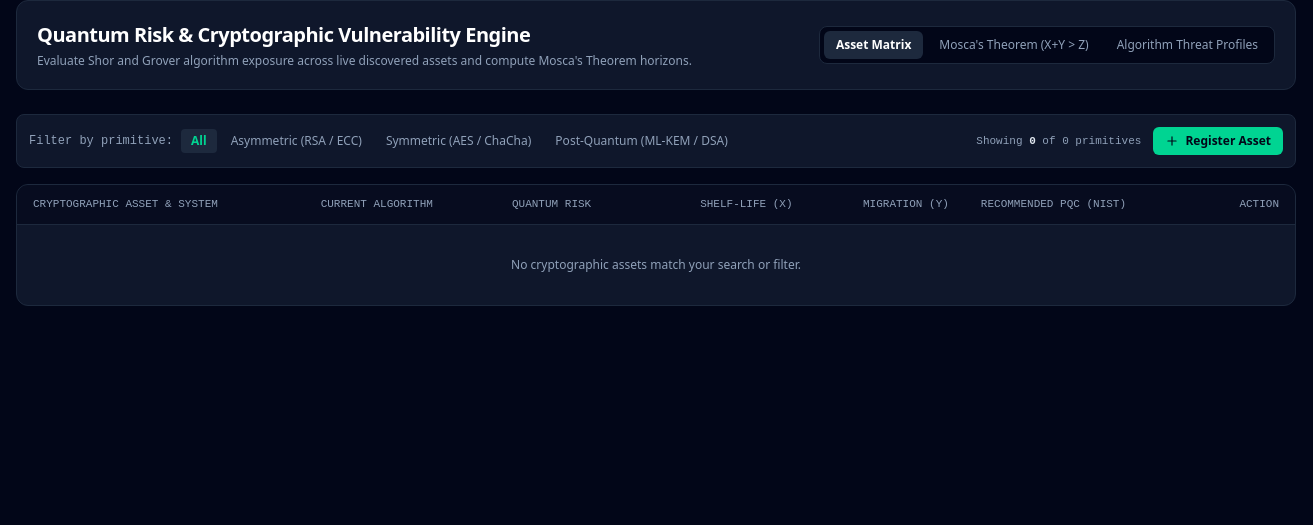
QuantumShield React UI Components › renders Mosca's Theorem Calculator and updates evaluation dynamically
Click the button "Mosca's Theorem (X+Y > Z)" at (1014, 45), box [927,31,1101,59]
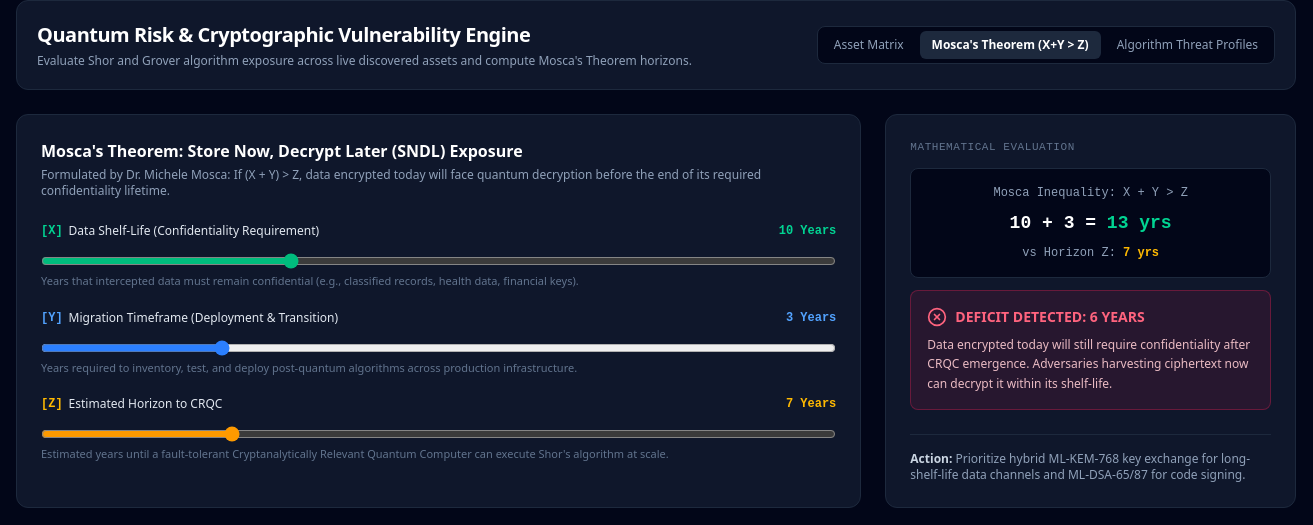
expect the text "DEFICIT DETECTED: 6 YEARS" is shown: met, box [955,306,1145,326]
Set the slider labelled "[Z] Estimated Horizon to CRQC" to "18" at (737, 434), box [41,430,836,438]
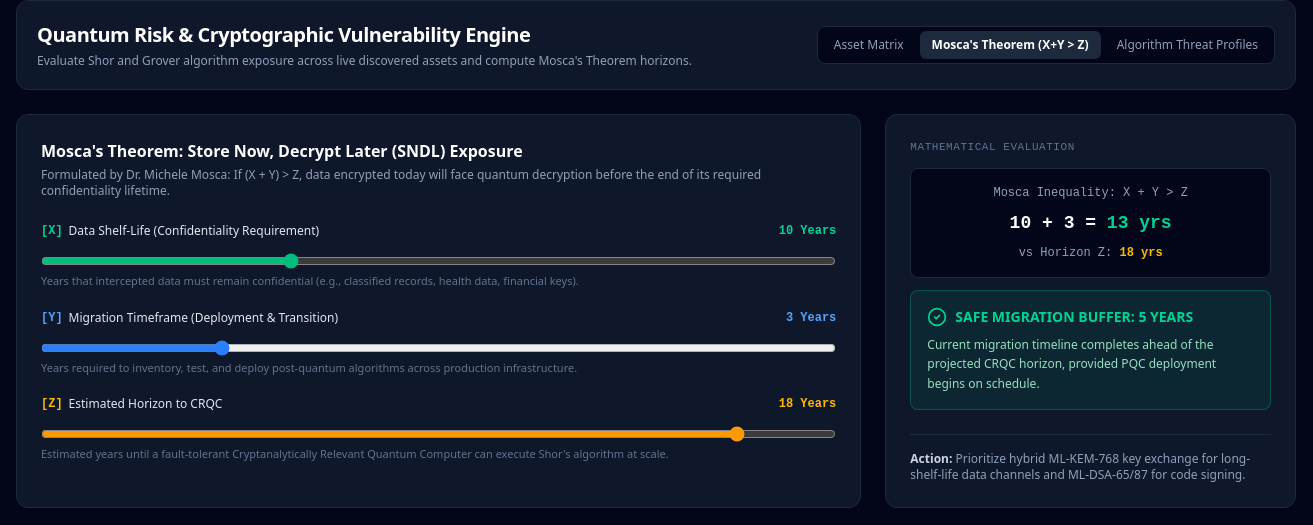
expect the text "SAFE MIGRATION BUFFER: 5 YEARS" is shown: met, box [955,306,1193,326]
